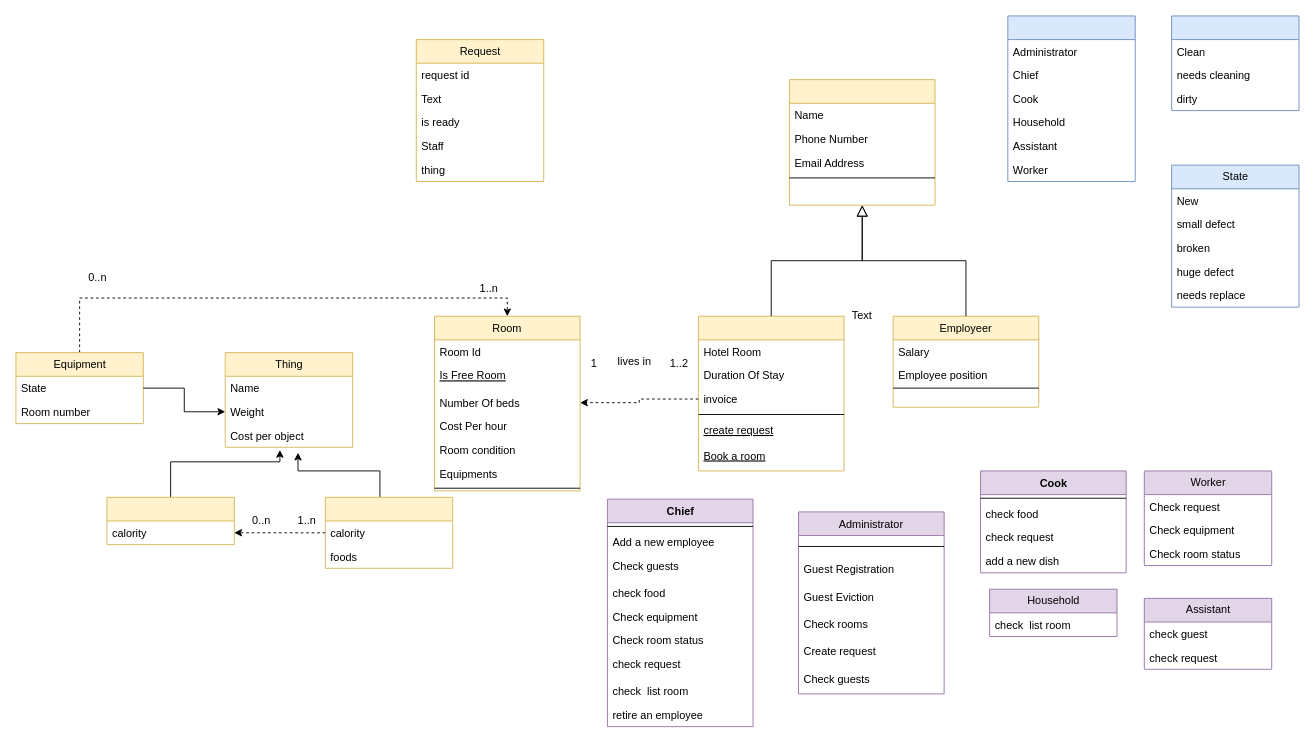
The diagram is 1315 pixels wide and 745 high, and some of its shapes have lost their labels. Each missing label, with the box of its shape:
Dish: (324, 496, 453, 568)
Employee roles: (1007, 15, 1135, 182)
Food: (106, 496, 234, 545)
Guest: (698, 315, 844, 471)
Person: (789, 79, 935, 205)
Status room: (1171, 15, 1299, 111)
